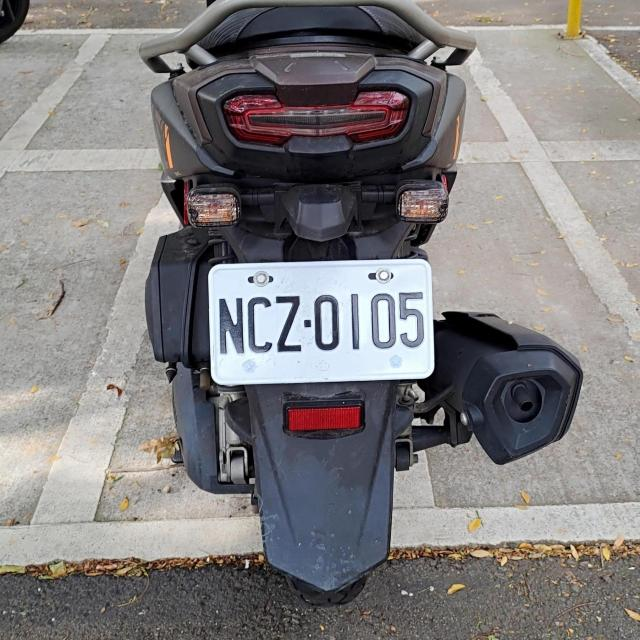W: (208, 257, 434, 382)
